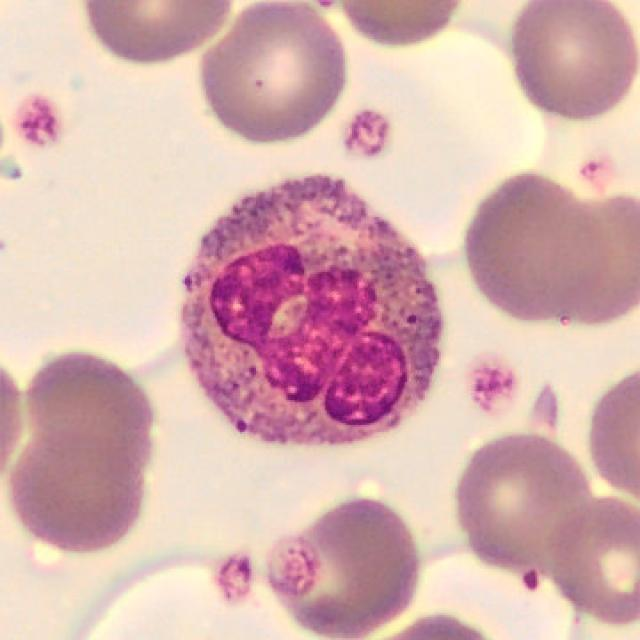Neutrofilo segmentado: (182, 172, 443, 450)
